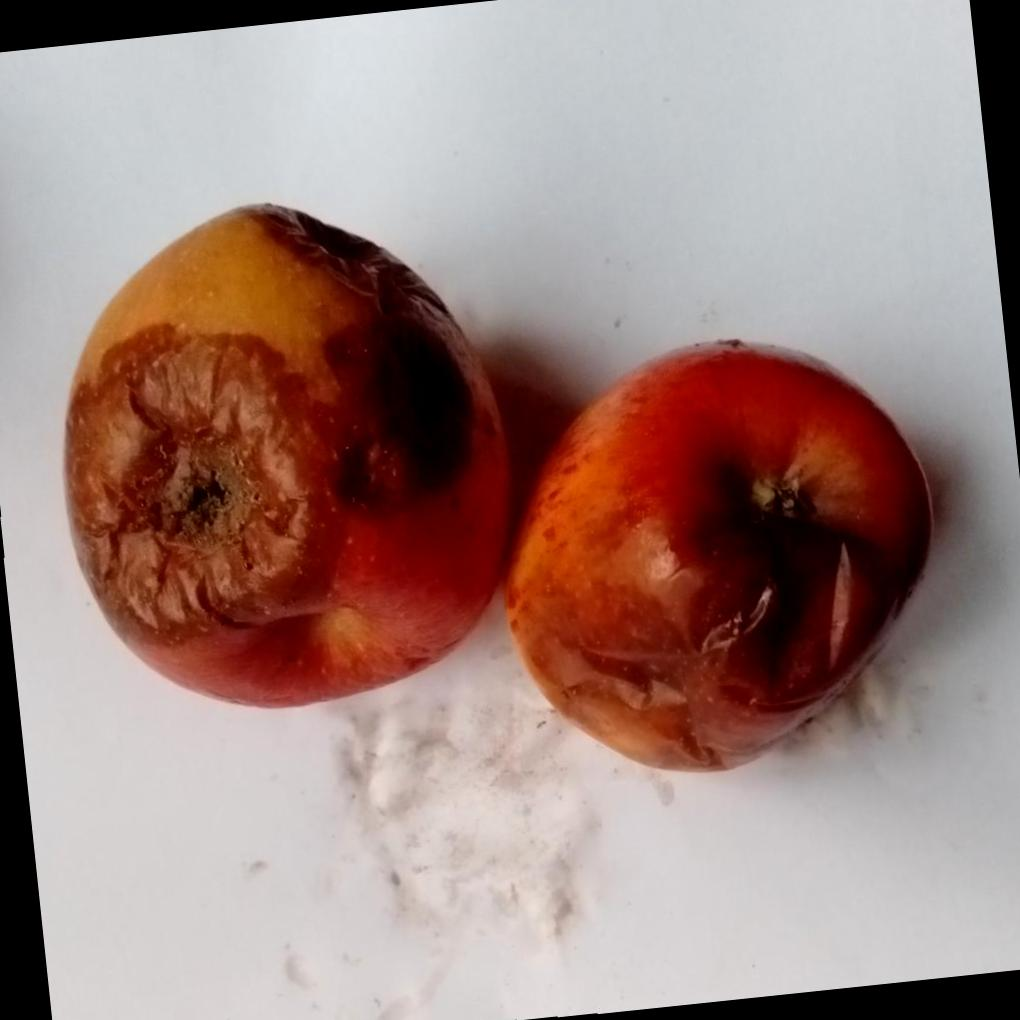FreshOrange: (59, 199, 932, 770)
